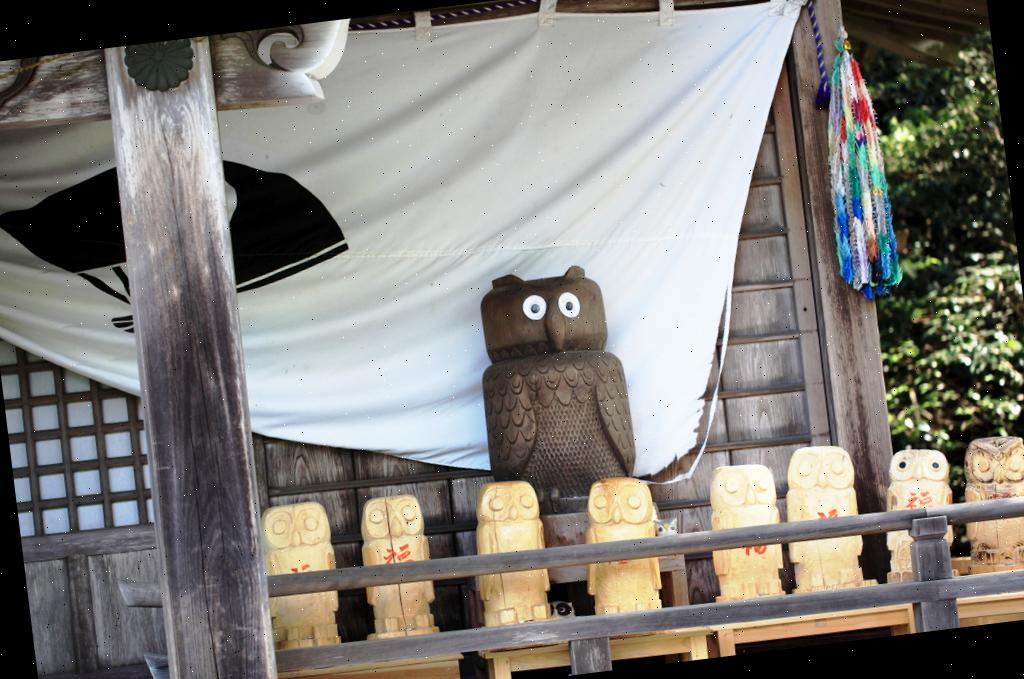Owl: (470, 258, 652, 505), (462, 476, 556, 636), (778, 437, 875, 592), (570, 470, 666, 618), (353, 490, 445, 644), (872, 441, 962, 582), (701, 457, 789, 600), (264, 502, 346, 652), (953, 428, 1024, 570)
